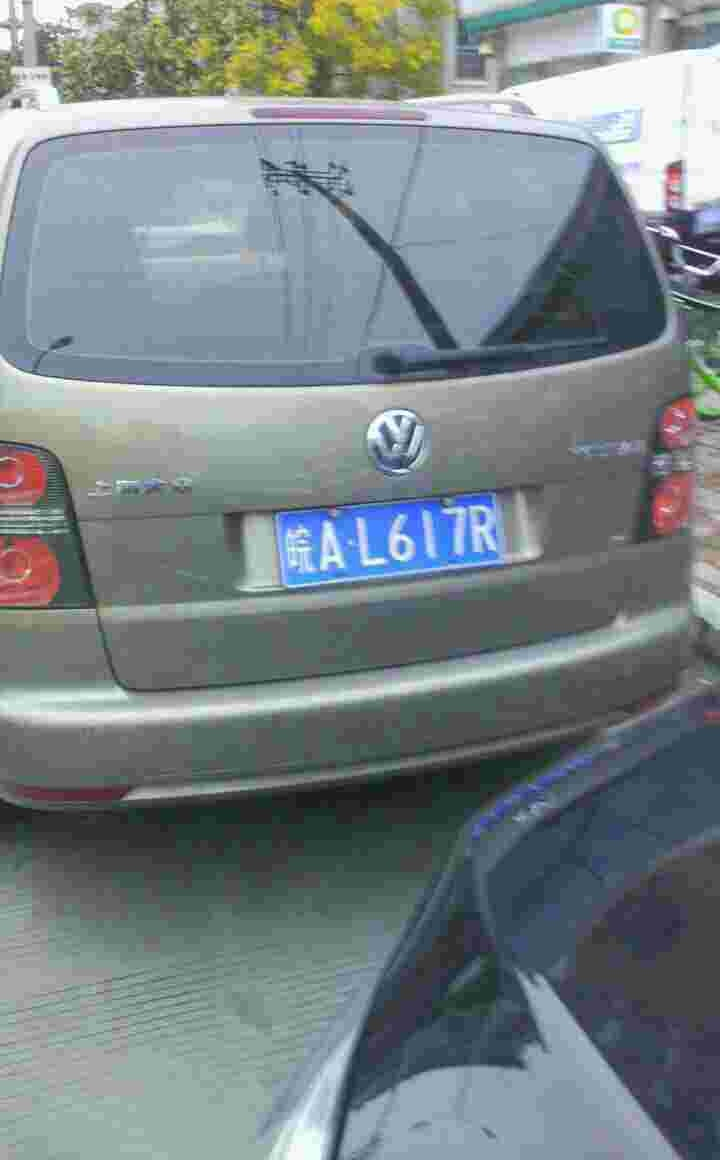plate: (283, 486, 512, 590)
